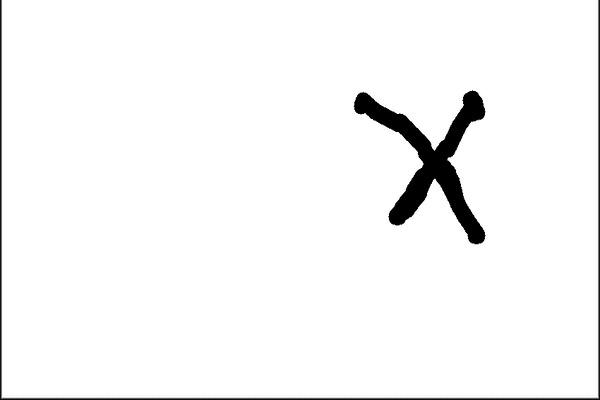X: (320, 77, 520, 251)
